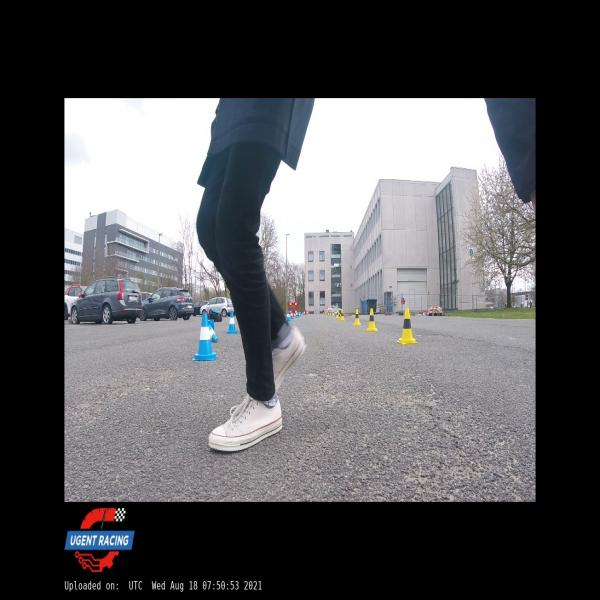blue_cone: (192, 312, 218, 361), (226, 312, 240, 334), (208, 319, 218, 342), (289, 311, 294, 320), (286, 311, 290, 321), (296, 312, 298, 317)
yellow_cone: (397, 308, 417, 345), (366, 308, 378, 332), (352, 308, 361, 326), (340, 310, 345, 320), (336, 309, 340, 318), (332, 311, 334, 316)
